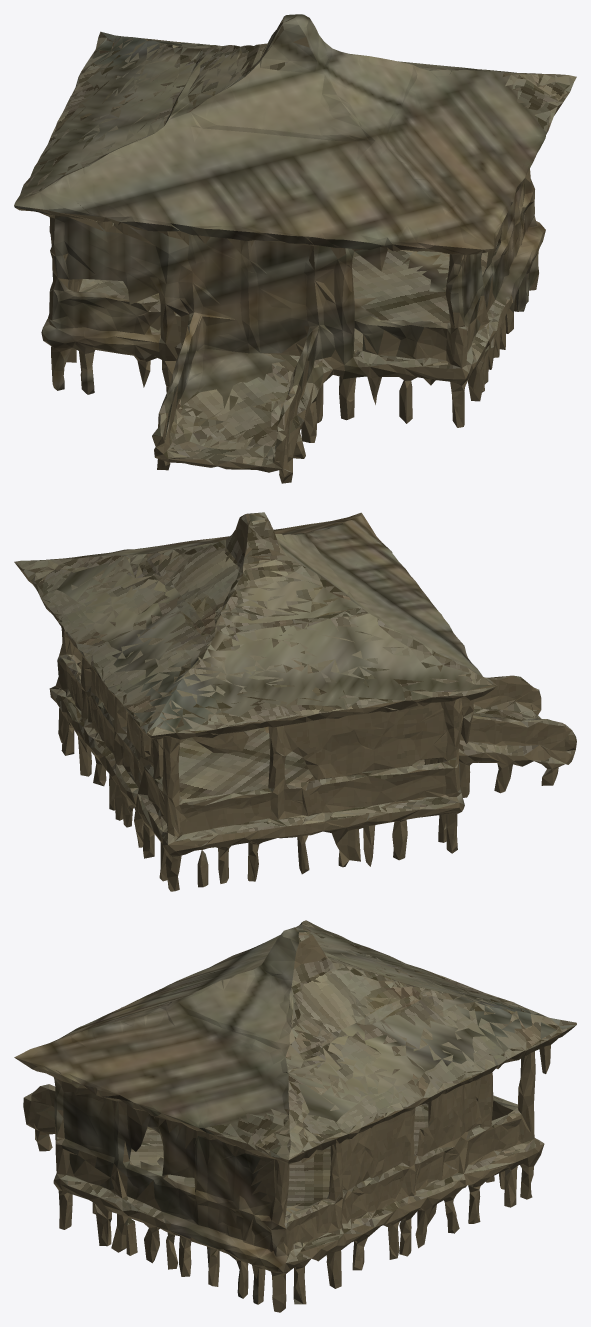
3 views of the same model, one above another, from view 1: azimuth 30°, elevation 25°; view 2: azimuth 150°, elevation 25°; view 3: azimuth 270°, elevation 25° (orthographic). The views are drawn at different scales.
Parts seen in each view (by area): view 1: painted, roof, wall; view 2: roof, wall, painted; view 3: painted, wall, roof.
Boxes of the visible parts, <box> form: painted: <box>14,14,547,441</box>; roof: <box>16,15,576,472</box>; wall: <box>15,23,568,483</box>; roof: <box>14,513,576,863</box>; wall: <box>14,517,576,891</box>; painted: <box>57,512,544,832</box>; painted: <box>14,920,576,1304</box>; wall: <box>14,935,576,1312</box>; roof: <box>24,920,575,1304</box>.
Size of the model in its own units: 3.02 by 1.7 by 3.
Materials: 3 (3 with a texture image).
